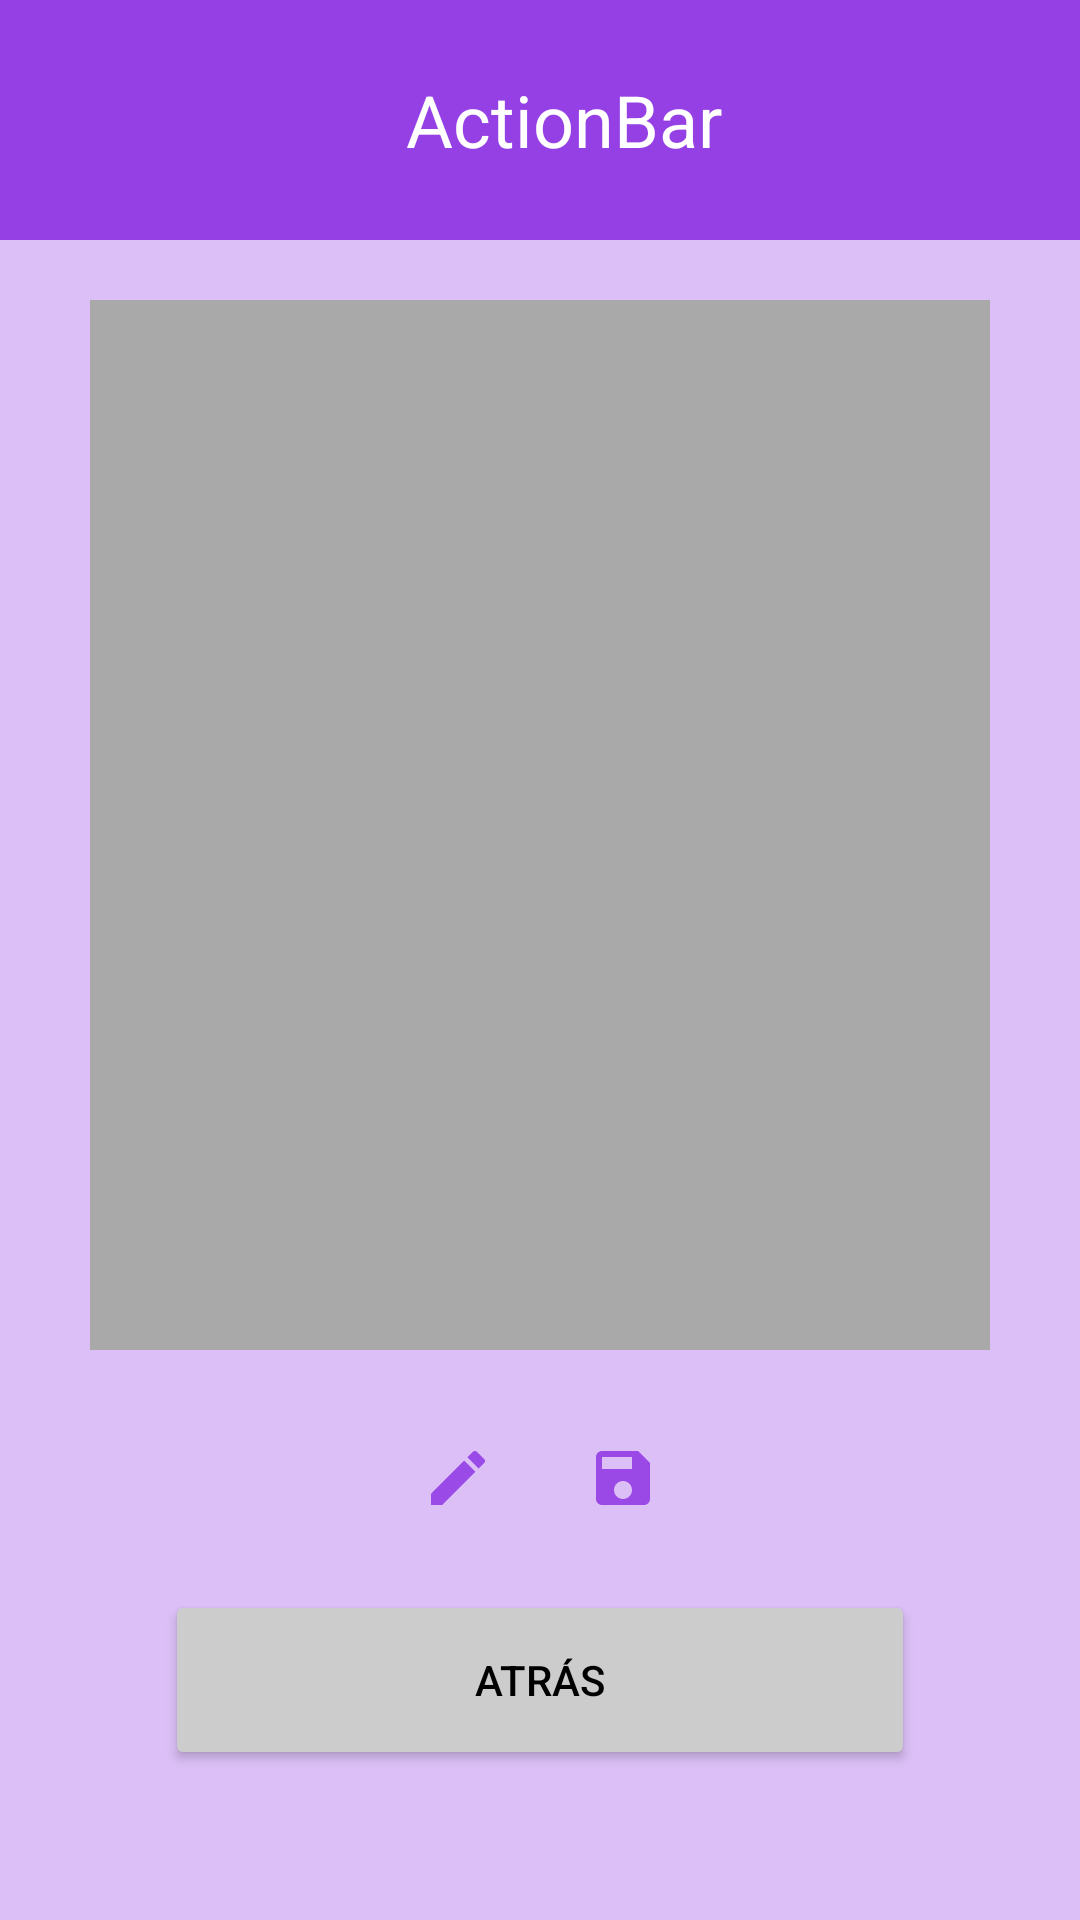

Named icons in this screenshot (1080px×1920px) and their bounding boxes, detection(x1, y1, x2, y2):
edit: detection(431, 1451, 485, 1505)
save: detection(596, 1451, 650, 1505)
